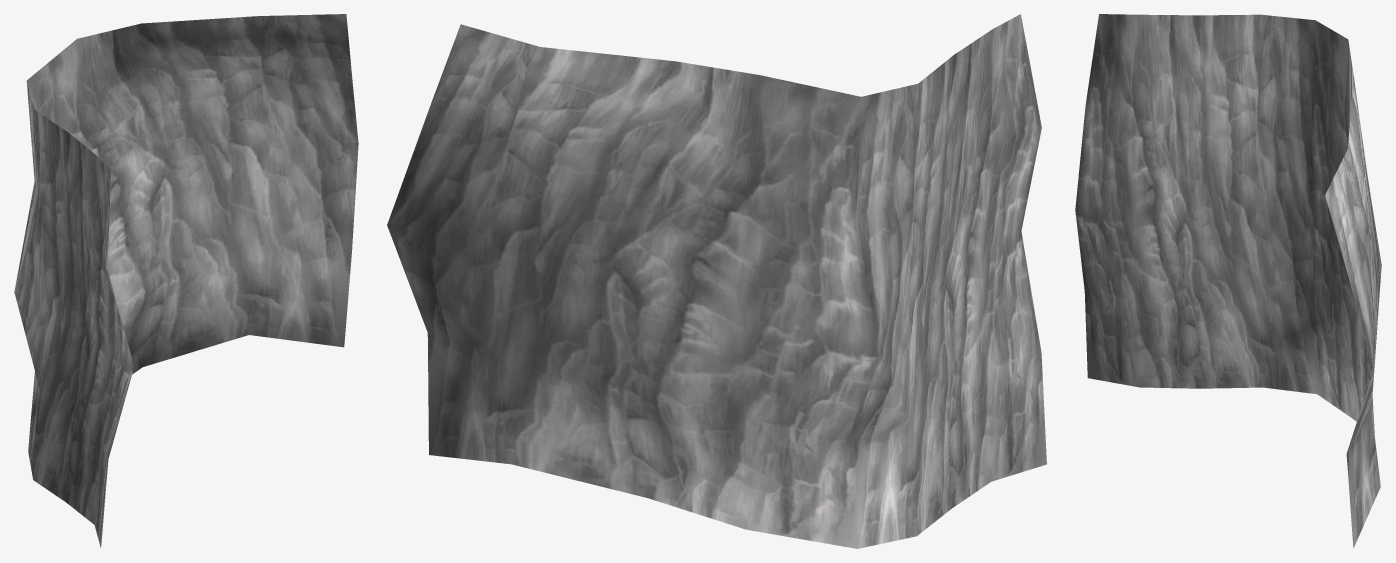
Rendered from SWORDLIGHT20_PS-AREA03_73.fbx.
3 renders of one model, left to right at view 1: azimuth 30°, elevation 25°; view 2: azimuth 150°, elevation 25°; view 3: azimuth 270°, elevation 25°, orthographic. The views are drawn at different scales.
Parts seen in each view (by area): view 1: SWORDLIGHT20_PS-AREA03_73; view 2: SWORDLIGHT20_PS-AREA03_73; view 3: SWORDLIGHT20_PS-AREA03_73.
Boxes of the visible parts, bbox=[...] form: SWORDLIGHT20_PS-AREA03_73: bbox=[14, 14, 358, 547]; SWORDLIGHT20_PS-AREA03_73: bbox=[387, 14, 1046, 548]; SWORDLIGHT20_PS-AREA03_73: bbox=[1075, 14, 1381, 548].
Bounding box in the file's own units: 112973 × 105068 × 74691.
1 material, 1 textured.
